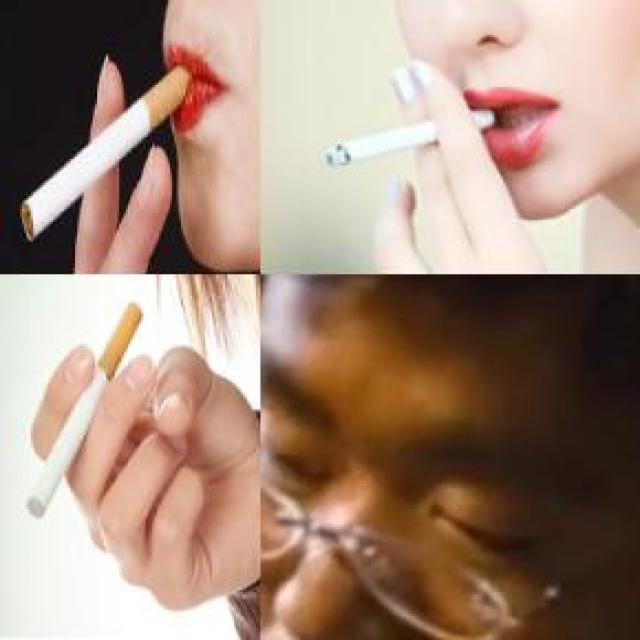smoking: (18, 61, 195, 244), (25, 297, 147, 517), (324, 105, 496, 168)
